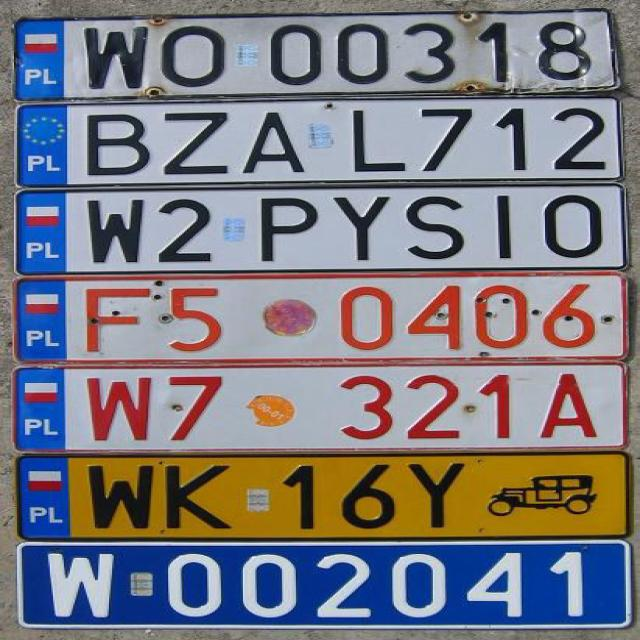pl_license_plate: (17, 186, 620, 268), (17, 274, 620, 356), (16, 100, 618, 182), (12, 11, 612, 93), (16, 367, 618, 448), (20, 456, 623, 536), (20, 542, 623, 622)
